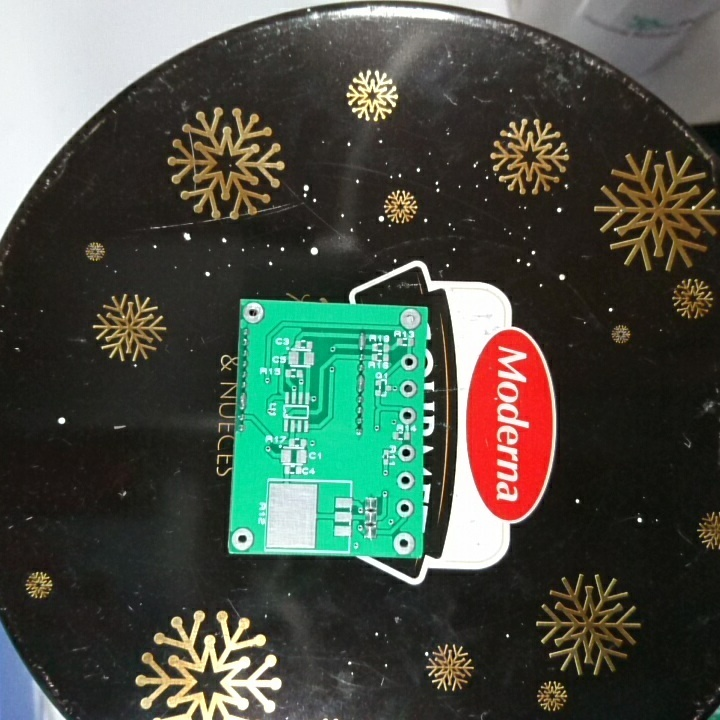F: (228, 523, 258, 553), (241, 299, 268, 327), (391, 529, 417, 556), (397, 307, 423, 332), (393, 495, 417, 520), (395, 403, 419, 427), (396, 441, 418, 465), (398, 351, 420, 374), (397, 378, 420, 400), (395, 469, 416, 492)
P: (235, 389, 249, 413), (353, 372, 367, 395), (356, 329, 368, 352)
